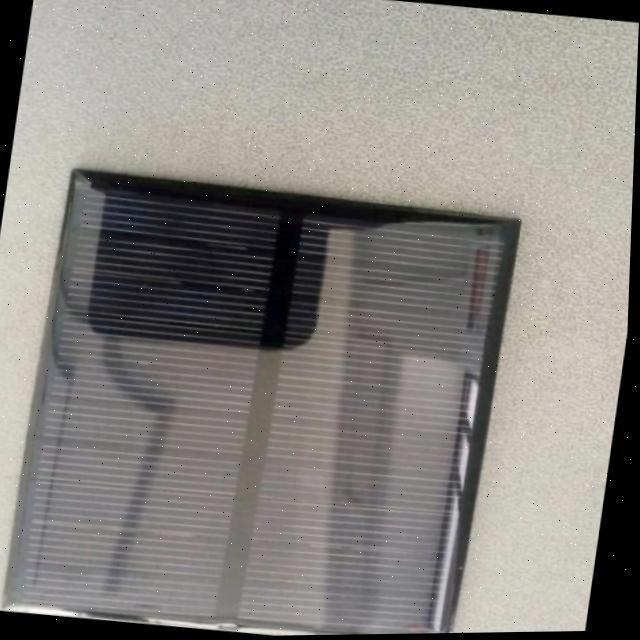Normal Solar Panel: (6, 165, 522, 640)
